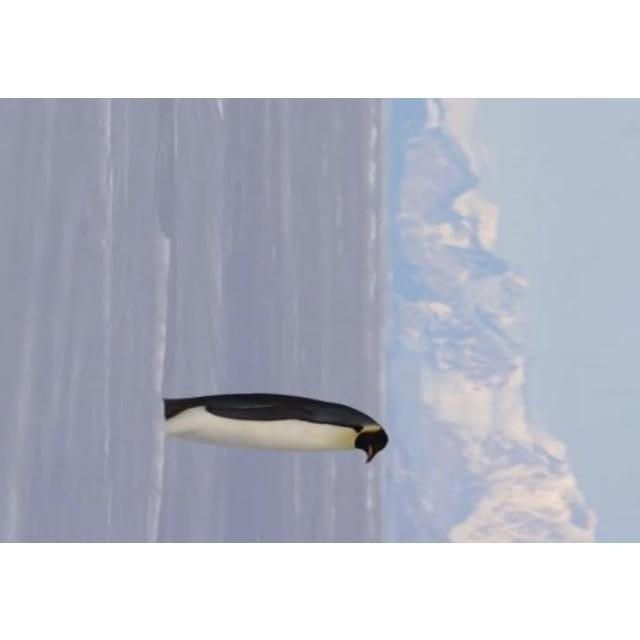penguin: (162, 391, 388, 463)
